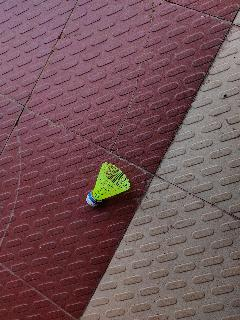shuttlecock: (87, 162, 131, 206)
